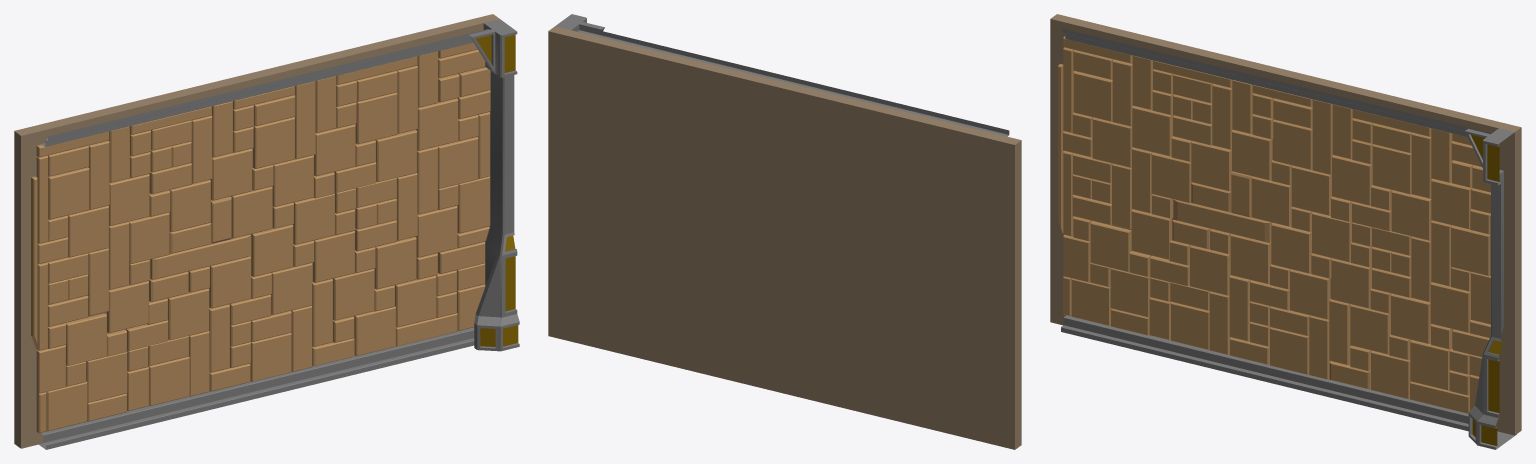
File: wall_simple_R.fbx
3 views of the same model, side by side, from view 1: azimuth 30°, elevation 25°; view 2: azimuth 150°, elevation 25°; view 3: azimuth 330°, elevation 25° (orthographic). The views are drawn at different scales.
Parts seen in each view (by area): view 1: wall_simple_R; view 2: wall_simple_R; view 3: wall_simple_R.
Boxes of the visible parts, <box> form: wall_simple_R: <box>14,14,519,449</box>; wall_simple_R: <box>548,14,1021,449</box>; wall_simple_R: <box>1050,14,1521,449</box>.
Size of the model in its own units: 157 by 15.13 by 98.43.
